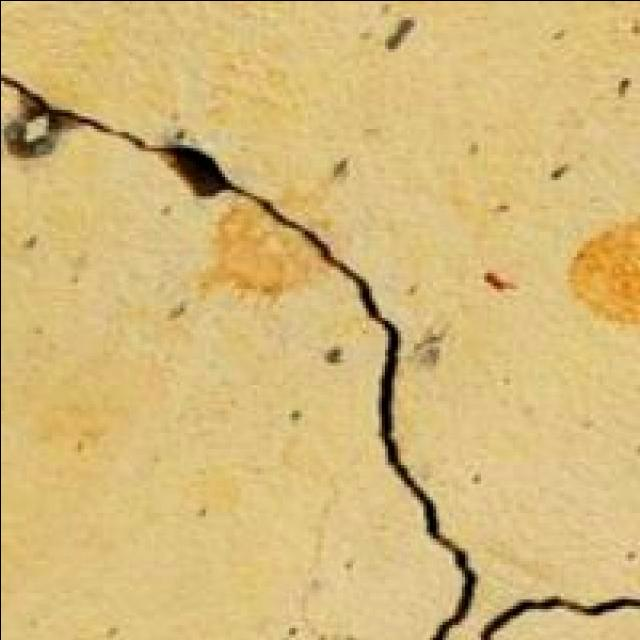SurfaceCrack: (0, 56, 476, 638), (478, 564, 640, 640)
